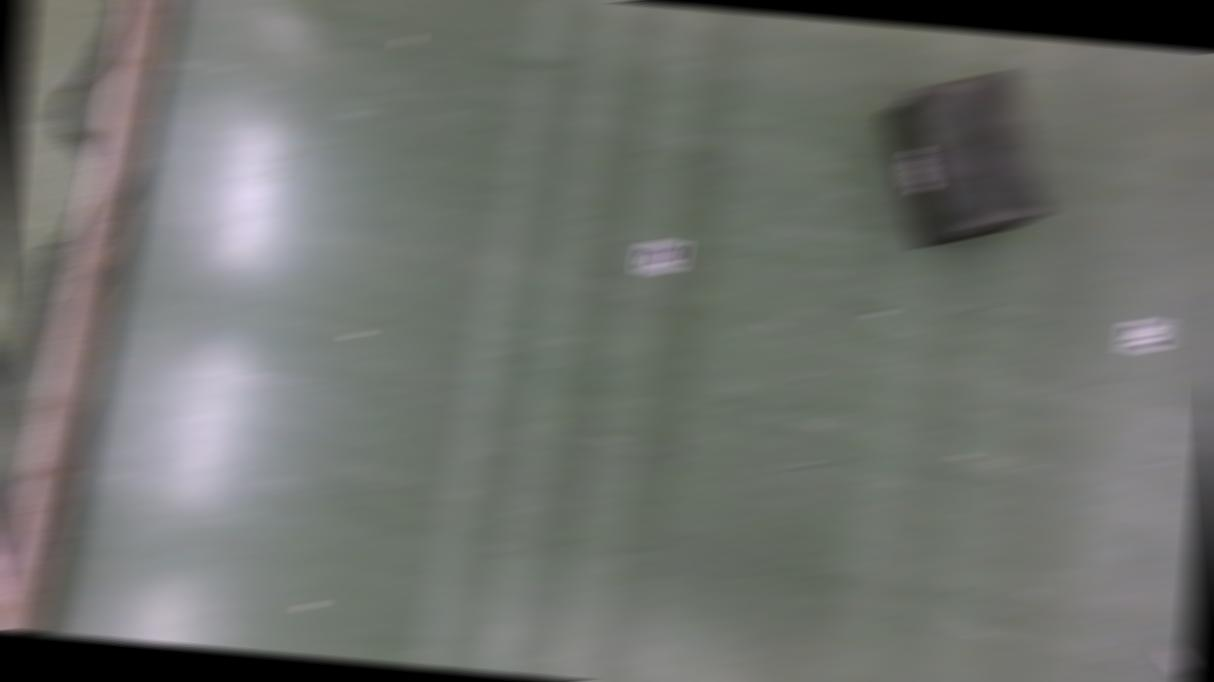probes: (1152, 640, 1196, 682)
rako: (868, 59, 1064, 259)
